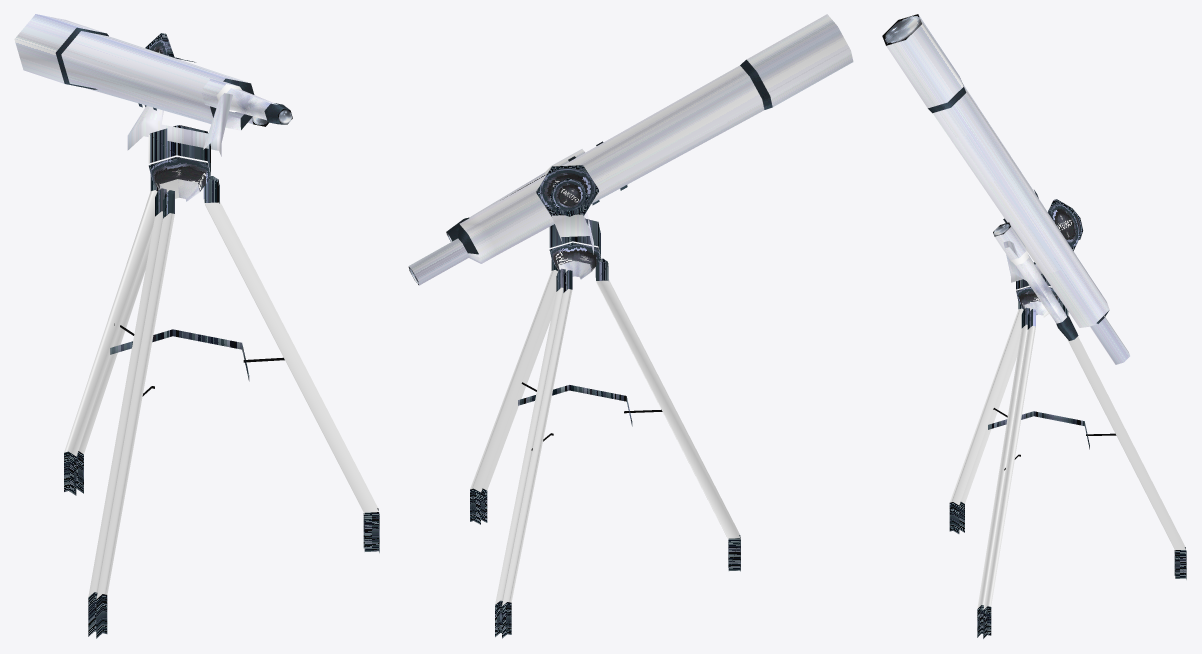
The model's file is ps2_save-icons_hoshiironookurimono.glb.
The picture shows the model from 3 angles, left to right: view 1: azimuth 30°, elevation 25°; view 2: azimuth 150°, elevation 25°; view 3: azimuth 270°, elevation 25°; orthographic projection. The views are drawn at different scales.
Parts seen in each view (by area): view 1: hoshiiro.ico; view 2: hoshiiro.ico; view 3: hoshiiro.ico.
Part boxes in pixels (left/top/right/bottom): hoshiiro.ico: left=14, top=14, right=379, bottom=638; hoshiiro.ico: left=408, top=14, right=853, bottom=638; hoshiiro.ico: left=882, top=14, right=1186, bottom=638.
Size of the model in its own units: 3.15 by 4.86 by 2.77.
Materials: 1 (1 with a texture image).
